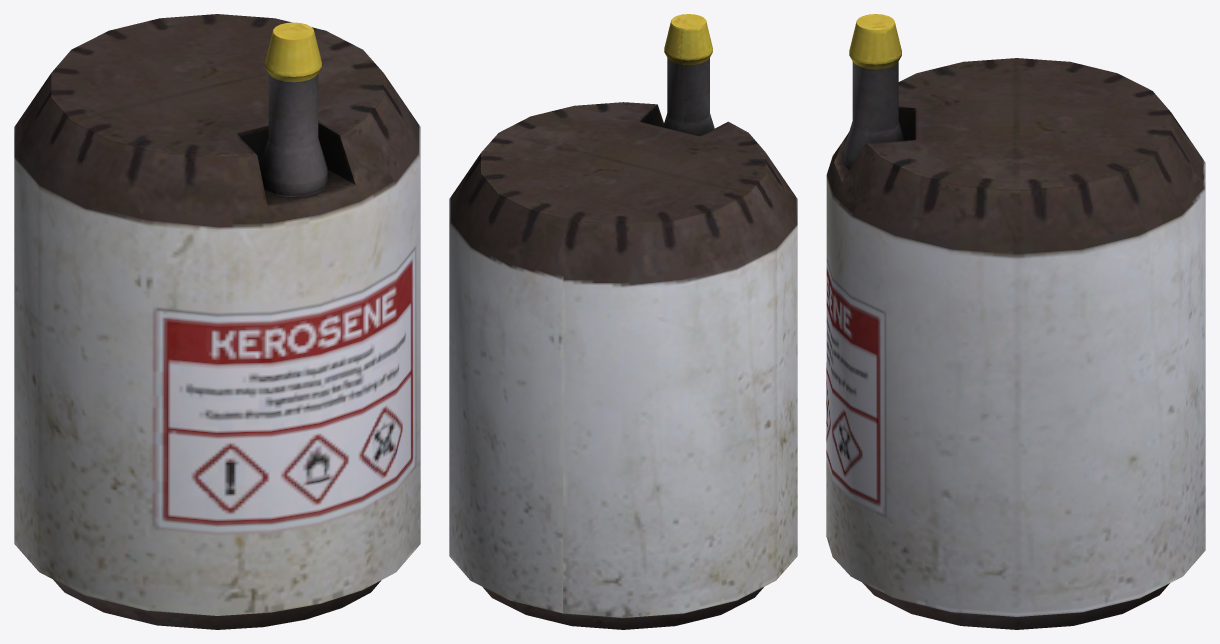
Rendered from canister_kerosene_indoor.DAE.
The picture shows the model from 3 angles, left to right: view 1: azimuth 30°, elevation 25°; view 2: azimuth 150°, elevation 25°; view 3: azimuth 270°, elevation 25°; orthographic projection. The views are drawn at different scales.
Parts seen in each view (by area): view 1: canister_kerosene_indoor001; view 2: canister_kerosene_indoor001; view 3: canister_kerosene_indoor001.
Boxes of the visible parts, <box> form: canister_kerosene_indoor001: <box>14,14,420,629</box>; canister_kerosene_indoor001: <box>449,14,797,629</box>; canister_kerosene_indoor001: <box>826,14,1205,629</box>.
Size of the model in its own units: 20.22 by 31.43 by 20.07.
